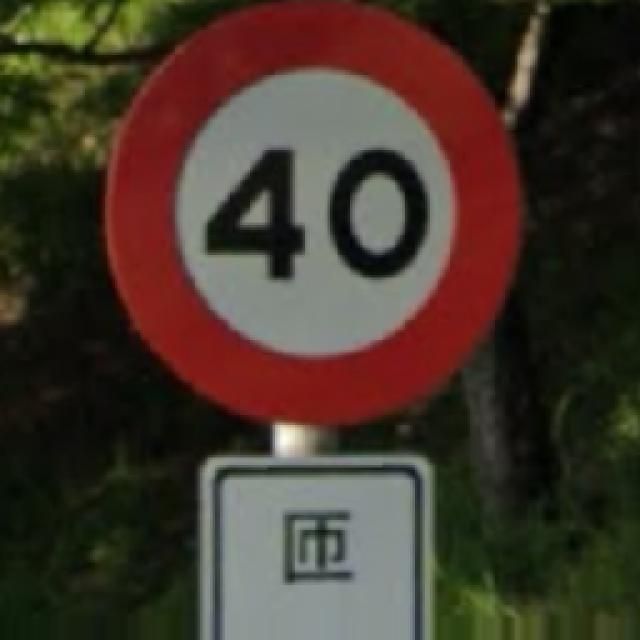Speed Limit -40-: (108, 2, 520, 422)
